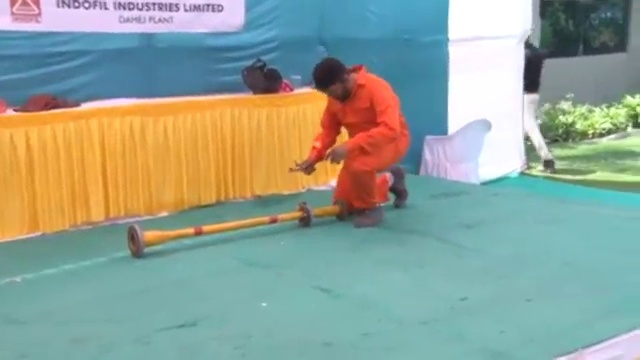helmet_off: (311, 54, 352, 102)
person: (296, 54, 410, 228), (521, 32, 554, 173)
